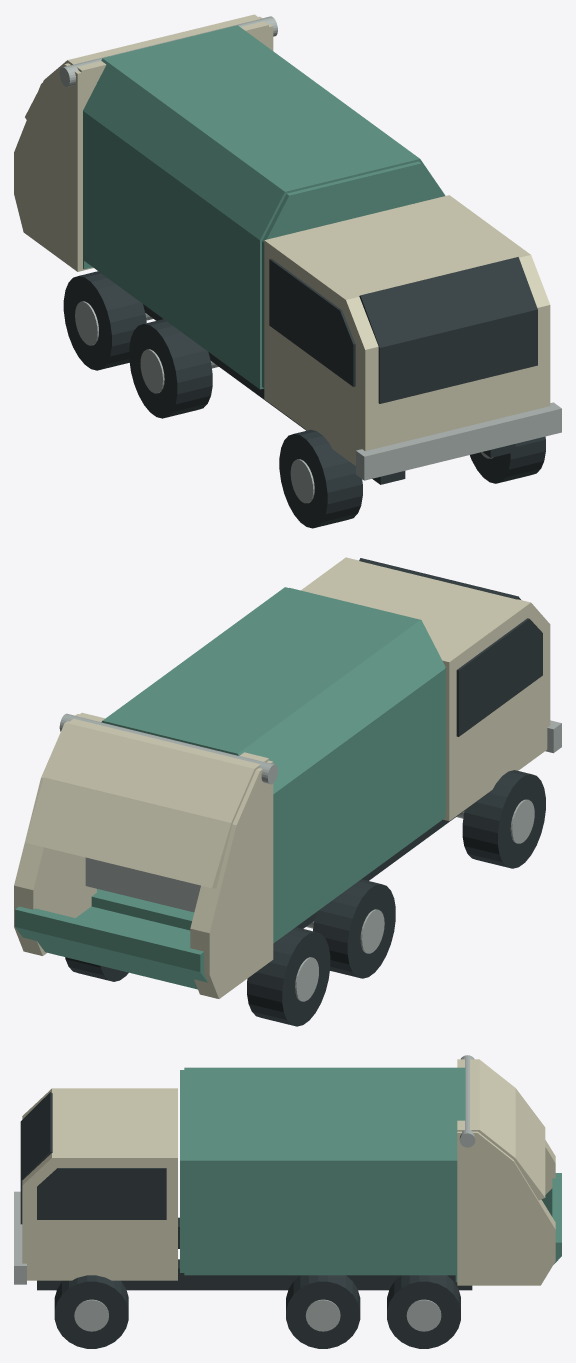
3 views of the same model, one above another, from view 1: azimuth 30°, elevation 25°; view 2: azimuth 150°, elevation 25°; view 3: azimuth 270°, elevation 25° (orthographic). The views are drawn at different scales.
Visible parts, largest first — view 1: WholeDeepArchedCollectionShell, WholeLowWideFrontCab, WholeBentOpaqueFrontPane, WholeRearReceiverCheekLeft, WholeClosedFrontBulkhead, WholeFrontBluntBumper, WholeOpaqueSideWindowLeft, WholeGroundTyreLeft1, WholeGroundTyreLeft0, WholeGroundTyreLeft2, WholeGroundTyreRight0, WholeRearUpperCurvedHood (+5 smaller); view 2: WholeDeepArchedCollectionShell, WholeRearUpperCurvedHood, WholeLowWideFrontCab, WholeRearReceiverCheekLeft, WholeDeepRearFeedScoop, WholeOpaqueSideWindowLeft, WholeGroundTyreLeft0, WholeRearReceiverCheekRight, WholeGroundTyreLeft2, WholeGroundTyreLeft1, WholeInnerFixedSweepPlate, WholeUpperReceiverPivot (+6 smaller); view 3: WholeDeepArchedCollectionShell, WholeLowWideFrontCab, WholeRearReceiverCheekRight, WholeOpaqueSideWindowRight, WholeRearUpperCurvedHood, WholeGroundTyreRight1, WholeGroundTyreRight2, WholeGroundTyreRight0, WholeLongRoadChassis, WholeBentOpaqueFrontPane, WholeClosedFrontBulkhead, WholeDeepRearFeedScoop (+6 smaller).
Boxes of the visible parts, left/top/right/bottom form: WholeDeepArchedCollectionShell: left=83, top=25, right=445, bottom=389; WholeLowWideFrontCab: left=264, top=195, right=550, bottom=465; WholeBentOpaqueFrontPane: left=359, top=257, right=537, bottom=403; WholeRearReceiverCheekLeft: left=14, top=63, right=96, bottom=271; WholeClosedFrontBulkhead: left=262, top=161, right=443, bottom=387; WholeFrontBluntBumper: left=356, top=402, right=561, bottom=480; WholeOpaqueSideWindowLeft: left=269, top=258, right=355, bottom=386; WholeGroundTyreLeft1: left=129, top=319, right=212, bottom=418; WholeGroundTyreLeft0: left=279, top=429, right=362, bottom=528; WholeGroundTyreLeft2: left=63, top=271, right=146, bottom=370; WholeGroundTyreRight0: left=470, top=436, right=545, bottom=483; WholeRearUpperCurvedHood: left=25, top=14, right=268, bottom=119; WholeDeepArchedCollectionShell: left=91, top=587, right=445, bottom=943; WholeRearUpperCurvedHood: left=25, top=712, right=268, bottom=888; WholeLowWideFrontCab: left=301, top=557, right=550, bottom=821; WholeRearReceiverCheekLeft: left=190, top=760, right=273, bottom=998; WholeDeepRearFeedScoop: left=15, top=906, right=207, bottom=989; WholeOpaqueSideWindowLeft: left=456, top=618, right=542, bottom=736; WholeGroundTyreLeft0: left=462, top=770, right=545, bottom=868; WholeRearReceiverCheekRight: left=14, top=714, right=96, bottom=955; WholeGroundTyreLeft2: left=247, top=927, right=330, bottom=1026; WholeGroundTyreLeft1: left=313, top=879, right=395, bottom=978; WholeInnerFixedSweepPlate: left=85, top=857, right=200, bottom=912; WholeUpperReceiverPivot: left=59, top=713, right=277, bottom=784; WholeDeepArchedCollectionShell: left=184, top=1067, right=465, bottom=1275; WholeLowWideFrontCab: left=22, top=1088, right=177, bottom=1280; WholeRearReceiverCheekRight: left=457, top=1131, right=555, bottom=1285; WholeOpaqueSideWindowRight: left=37, top=1168, right=166, bottom=1219; WholeRearUpperCurvedHood: left=457, top=1059, right=545, bottom=1200; WholeGroundTyreRight1: left=286, top=1275, right=360, bottom=1348; WholeGroundTyreRight2: left=387, top=1275, right=460, bottom=1348; WholeGroundTyreRight0: left=54, top=1275, right=128, bottom=1348; WholeLongRoadChassis: left=37, top=1217, right=472, bottom=1290; WholeBentOpaqueFrontPane: left=20, top=1092, right=52, bottom=1224; WholeClosedFrontBulkhead: left=180, top=1070, right=184, bottom=1272; WholeDeepRearFeedScoop: left=455, top=1173, right=561, bottom=1282.
Bounding box in the file's own units: 2.13 × 2.56 × 5.92.
